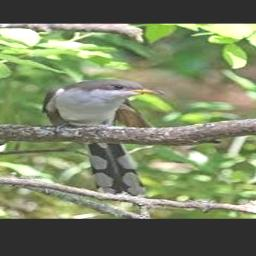Cuckoo: (42, 78, 165, 197)
